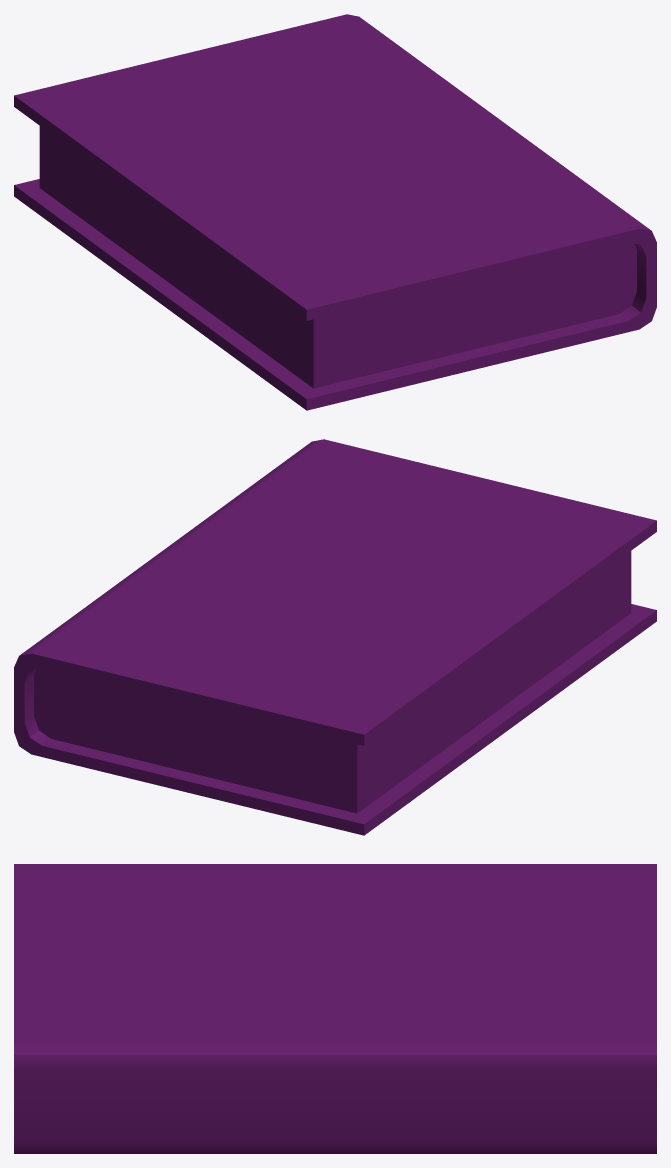
File: SmallBook.fbx
3 renders of one model, top to bottom at view 1: azimuth 30°, elevation 25°; view 2: azimuth 150°, elevation 25°; view 3: azimuth 270°, elevation 25°, orthographic. The views are drawn at different scales.
Visible parts, largest first — view 1: PR_Bookspine_01, PR_Paper; view 2: PR_Bookspine_01, PR_Paper; view 3: PR_Bookspine_01.
Part boxes in pixels (x1=…): PR_Bookspine_01: x1=14, y1=14, x2=656, y2=410; PR_Paper: x1=39, y1=126, x2=636, y2=388; PR_Bookspine_01: x1=14, y1=439, x2=656, y2=835; PR_Paper: x1=34, y1=551, x2=631, y2=813; PR_Bookspine_01: x1=14, y1=864, x2=656, y2=1153.
Bounding box in the file's own units: 25.93 × 7.14 × 37.55.
